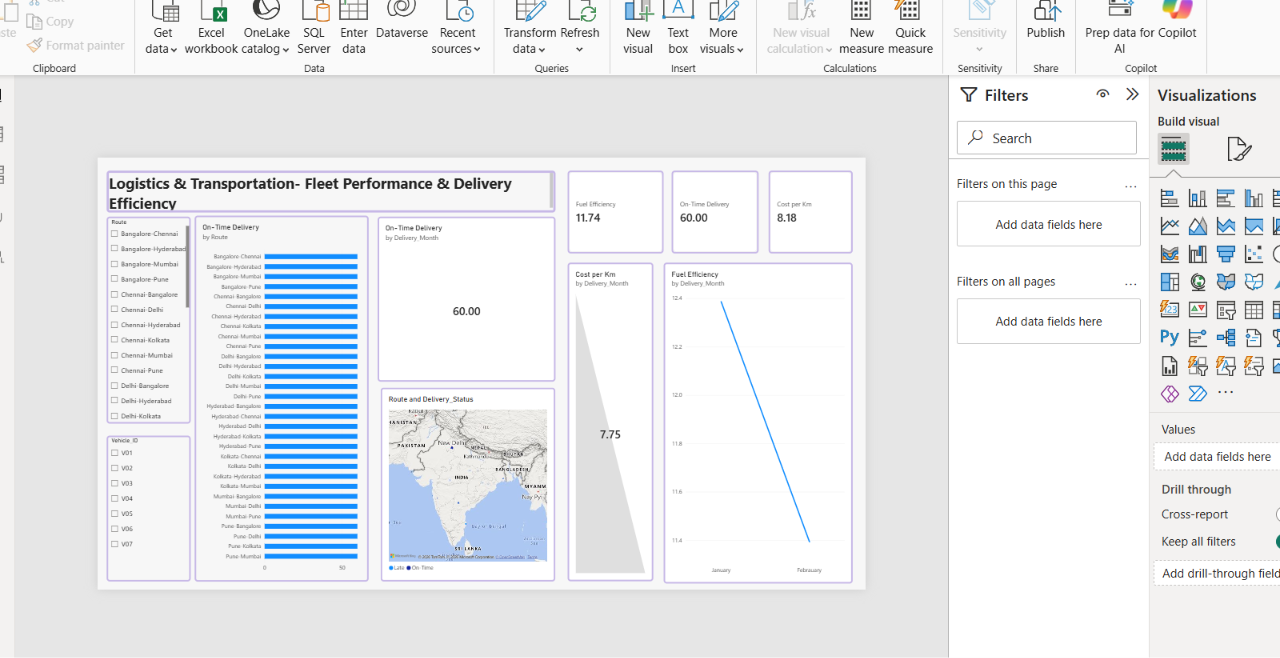

The page's visual inventory and layout, read from the dashboard file:
{"tool":"powerbi","page":{"name":"Logistics & Transportation- Fleet Performance &Delivery Efficiency","canvas":[1920,1080],"ordinal":0},"visuals":[{"type":"cardVisual","fields":{"Data":["Trip Data.Fuel Efficiency"]},"box":[1175,32.5,240,207.5],"z":0},{"type":"cardVisual","fields":{"Data":["Trip Data.On-Time Delivery"]},"box":[1435,32.5,217.5,207.5],"z":1000},{"type":"cardVisual","fields":{"Data":["Trip Data.Cost per Km"]},"box":[1677.5,32.5,210,207.5],"z":2000},{"type":"clusteredBarChart","fields":{"Category":["Trip Data.Route"],"Y":["Trip Data.On-Time Delivery"]},"box":[241.5,145.1,435,915],"z":3000},{"type":"lineChart","fields":{"Category":["Trip Data.Delivery_Month"],"Y":["Trip Data.Fuel Efficiency"]},"box":[1415,262.5,472.5,802.5],"z":4000},{"type":"kpi","fields":{"Indicator":["Trip Data.On-Time Delivery"],"TrendLine":["Trip Data.Delivery_Month"]},"box":[700,147.2,445,412.5],"z":5000},{"type":"filledMap","fields":{"Category":["Trip Data.Route"],"Series":["Trip Data.Delivery_Status"]},"box":[708,575,437,485],"z":6000},{"type":"kpi","fields":{"Indicator":["Trip Data.Cost per Km"],"TrendLine":["Trip Data.Delivery_Month"]},"box":[1175.3,263.5,214.1,796.6],"z":7000},{"type":"slicer","fields":{"Values":["Trip Data.Vehicle_ID"]},"box":[22.5,695,210,365],"z":8000},{"type":"slicer","fields":{"Values":["Trip Data.Route"]},"box":[22.5,147.5,210,517.5],"z":9000},{"type":"textbox","box":[23,33,1122,105],"z":9001}]}

Visuals, with their boxes on the page's 1920x1080 design canvas (x1, y1, x2, y2). These are canvas units, not pixel positions in the 1280x658 screenshot, which may show the page scaled, cropped or inside an application window:
cardVisual - Trip Data.Fuel Efficiency: [1175,32,1415,240]
cardVisual - Trip Data.On-Time Delivery: [1435,32,1652,240]
cardVisual - Trip Data.Cost per Km: [1678,32,1888,240]
clusteredBarChart - Trip Data.Route x Trip Data.On-Time Delivery: [242,145,676,1060]
lineChart - Trip Data.Delivery_Month x Trip Data.Fuel Efficiency: [1415,262,1888,1065]
kpi - Trip Data.On-Time Delivery x Trip Data.Delivery_Month: [700,147,1145,560]
filledMap - Trip Data.Route x Trip Data.Delivery_Status: [708,575,1145,1060]
kpi - Trip Data.Cost per Km x Trip Data.Delivery_Month: [1175,264,1389,1060]
slicer - Trip Data.Vehicle_ID: [22,695,232,1060]
slicer - Trip Data.Route: [22,148,232,665]
textbox: [23,33,1145,138]
